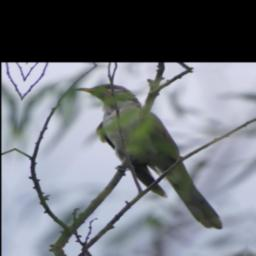Cuckoo: (58, 82, 250, 232)
